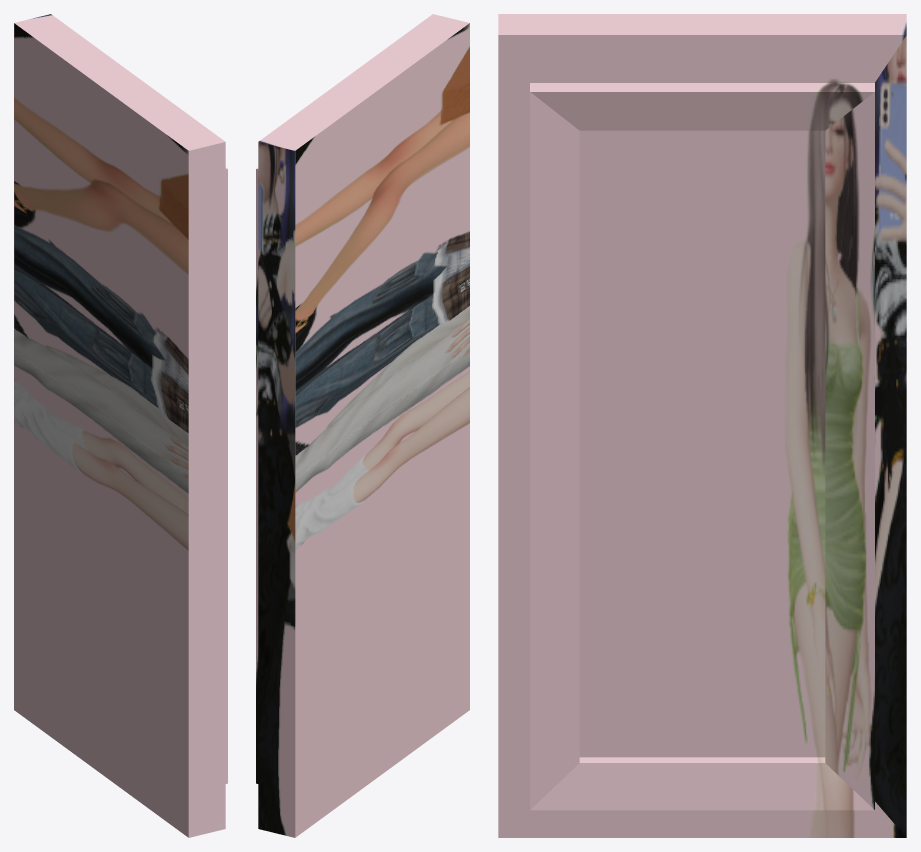
Rendered from door_1.fbx.
3 renders of one model, left to right at view 1: azimuth 30°, elevation 25°; view 2: azimuth 150°, elevation 25°; view 3: azimuth 270°, elevation 25°, orthographic. The views are drawn at different scales.
Visible parts, largest first — view 1: Cube.028; view 2: Cube.028; view 3: Cube.028.
Part boxes in pixels (left/top/right/bottom): Cube.028: left=14, top=14, right=227, bottom=837; Cube.028: left=256, top=14, right=469, bottom=837; Cube.028: left=498, top=14, right=906, bottom=837.
Bounding box in the file's own units: 16.08 × 200 × 92.19.
